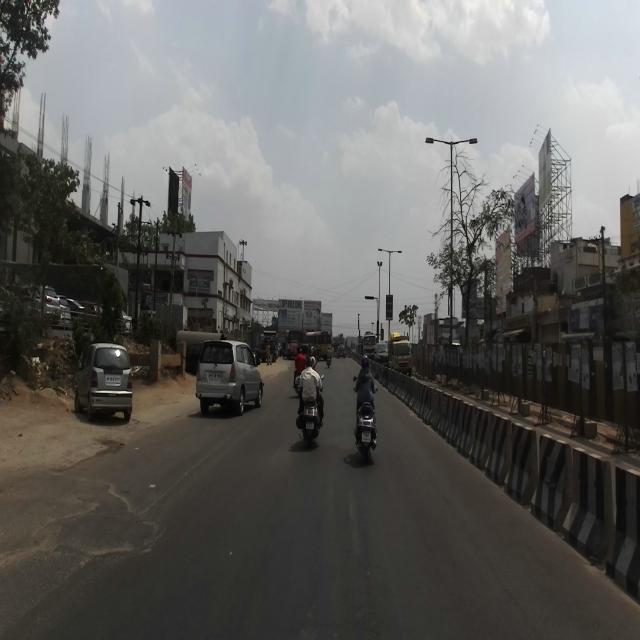car: (196, 340, 264, 416), (74, 341, 133, 420)
scooter: (352, 371, 379, 463), (296, 372, 324, 448)
